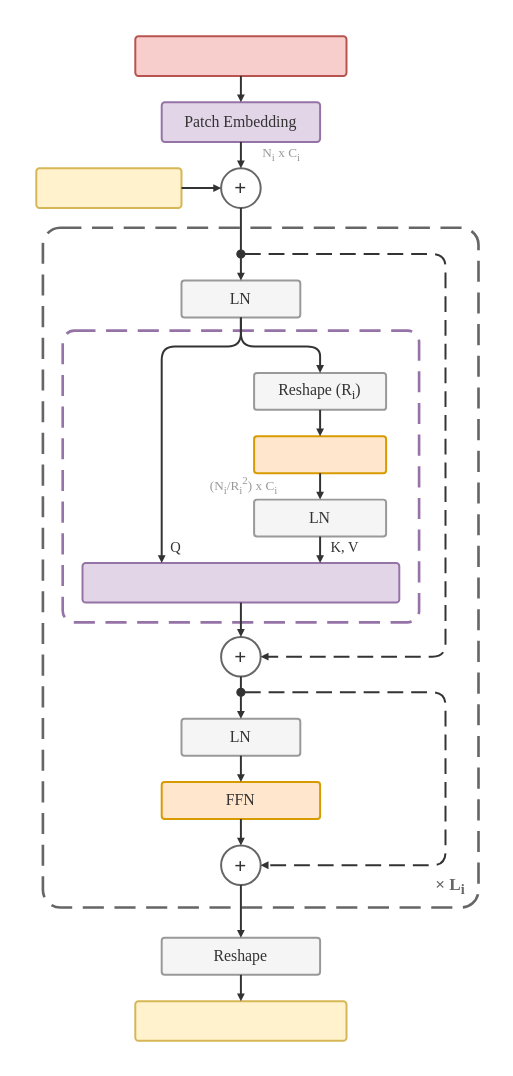
This 513x1076 diagram has some shape labels left out. The box of each missing label's shape, as (x1, y1, x2, y2) in pixels:
F i : H i x W i x C i: (134, 1000, 347, 1041)
F i-1 : H i-1 x W i-1 x C i-1: (134, 35, 347, 76)
Linear: (253, 435, 386, 474)
Multi-Head Attention: (81, 561, 400, 603)
Pos. Embedding: (35, 167, 182, 208)
SRA: (61, 329, 420, 623)
